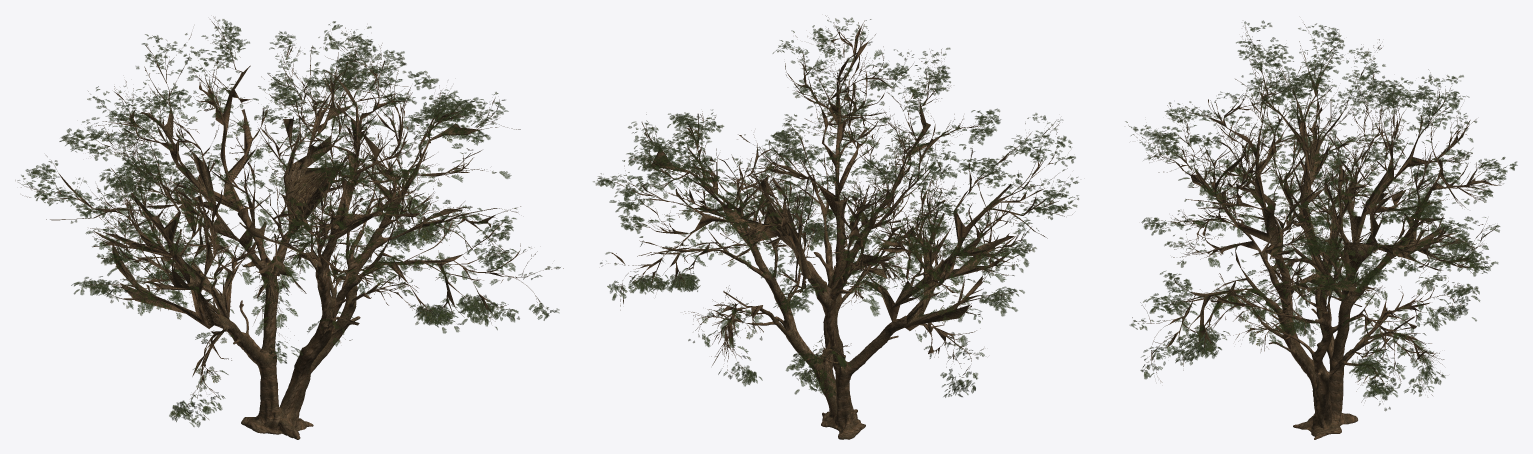
File: jacaranda_tree.glb
3 renders of one model, left to right at view 1: azimuth 30°, elevation 25°; view 2: azimuth 150°, elevation 25°; view 3: azimuth 270°, elevation 25°, orthographic. The views are drawn at different scales.
Visible parts, largest first — view 1: jacaranda_tree_LOD1, jacaranda_tree_LOD1.002, jacaranda_tree_LOD1.001; view 2: jacaranda_tree_LOD1, jacaranda_tree_LOD1.002, jacaranda_tree_LOD1.001; view 3: jacaranda_tree_LOD1, jacaranda_tree_LOD1.002, jacaranda_tree_LOD1.001.
Part boxes in pixels (box(x1,y1,x2,y2)): jacaranda_tree_LOD1: box(17, 17, 560, 427); jacaranda_tree_LOD1.002: box(15, 16, 563, 419); jacaranda_tree_LOD1.001: box(208, 208, 391, 439); jacaranda_tree_LOD1: box(593, 17, 1078, 398); jacaranda_tree_LOD1.002: box(601, 15, 1074, 382); jacaranda_tree_LOD1.001: box(741, 199, 906, 439); jacaranda_tree_LOD1: box(1125, 20, 1517, 411); jacaranda_tree_LOD1.002: box(1128, 24, 1506, 402); jacaranda_tree_LOD1.001: box(1261, 242, 1398, 439).
Size of the model in its own units: 24.42 by 19.42 by 18.57.
3 materials, 3 textured.
